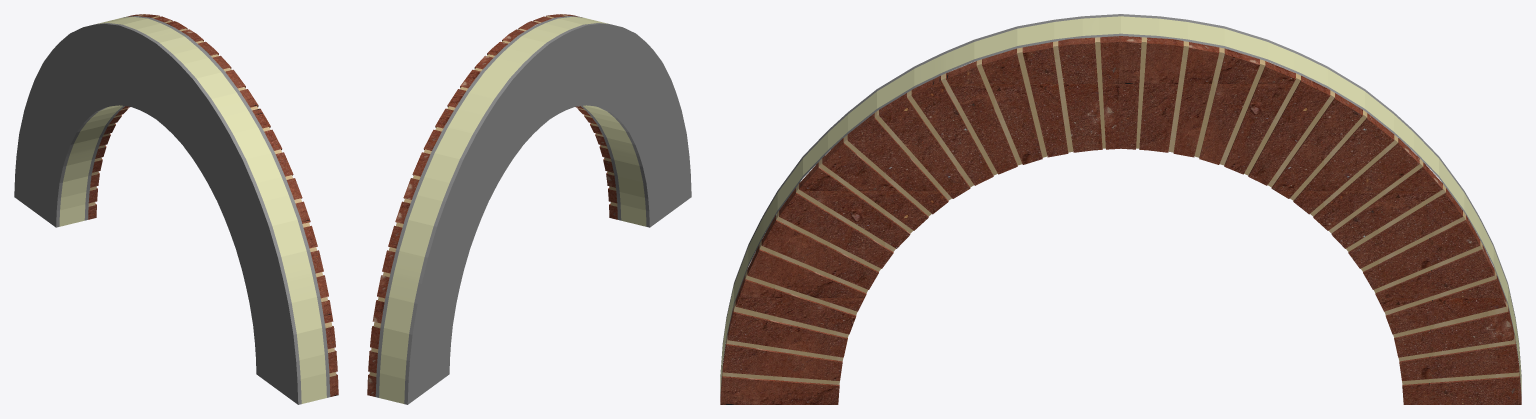
Rendered from arch.glb.
3 renders of one model, left to right at view 1: azimuth 30°, elevation 25°; view 2: azimuth 150°, elevation 25°; view 3: azimuth 270°, elevation 25°, orthographic. The views are drawn at different scales.
Parts seen in each view (by area): view 1: Material2 (×3), Material3; view 2: Material2 (×3), Material3; view 3: Material3, Material2 (×3).
Part boxes in pixels (x1,y1,x2,y2): Material2 (×3): (14,14,336,404); Material3: (88,14,338,396); Material2 (×3): (369,14,691,404); Material3: (367,14,617,396); Material3: (720,36,1521,404); Material2 (×3): (720,14,1521,395).
Bounding box in the file's own units: 4.72 × 28.74 × 57.48.
5 materials, 2 textured.
